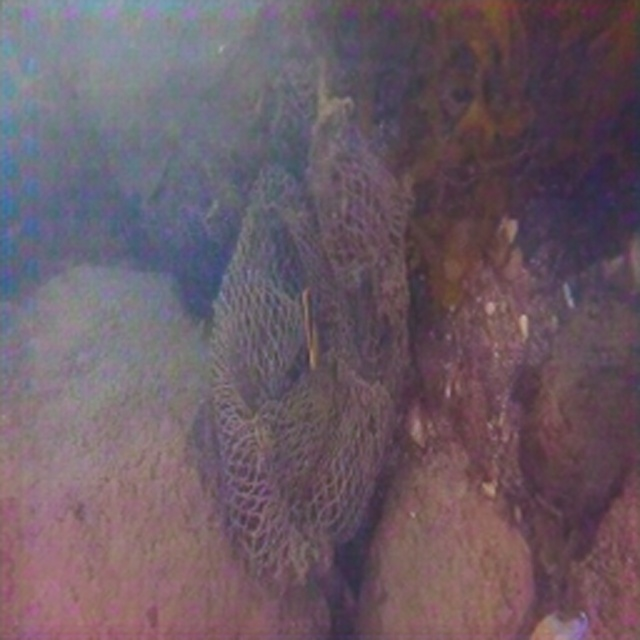mine: (209, 134, 412, 588)
